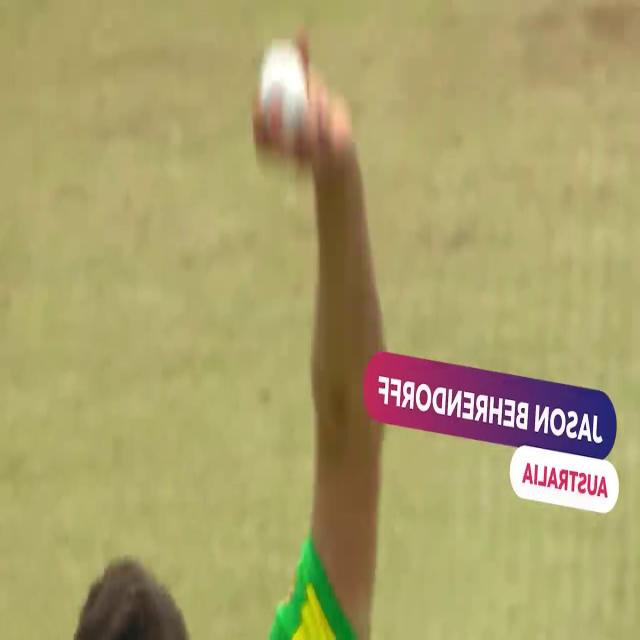ball: (224, 2, 352, 193)
